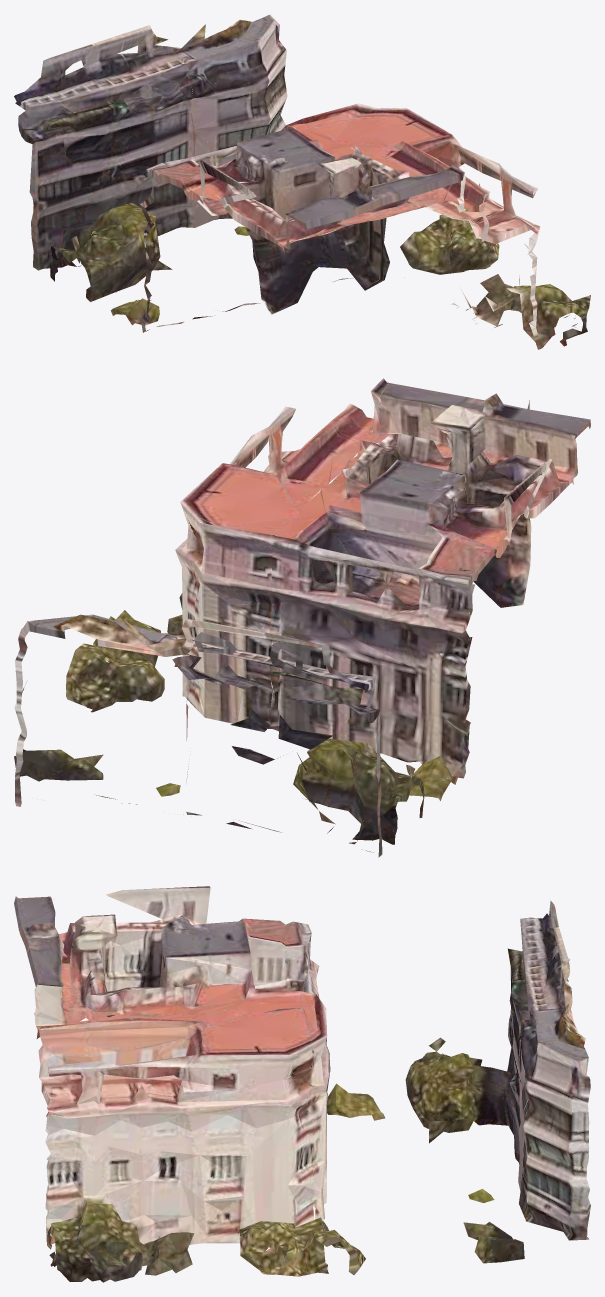
The picture shows the model from 3 angles, top to bottom: view 1: azimuth 30°, elevation 25°; view 2: azimuth 150°, elevation 25°; view 3: azimuth 270°, elevation 25°; orthographic projection. The views are drawn at different scales.
Visible parts, largest first — view 1: Mesh_0; view 2: Mesh_0; view 3: Mesh_0.
Part boxes in pixels (x1=…): Mesh_0: x1=14, y1=14, x2=590, y2=349; Mesh_0: x1=14, y1=378, x2=590, y2=857; Mesh_0: x1=14, y1=886, x2=590, y2=1282.
Size of the model in its own units: 32.9 by 18.73 by 40.87.
Materials: 2 (2 with a texture image).
